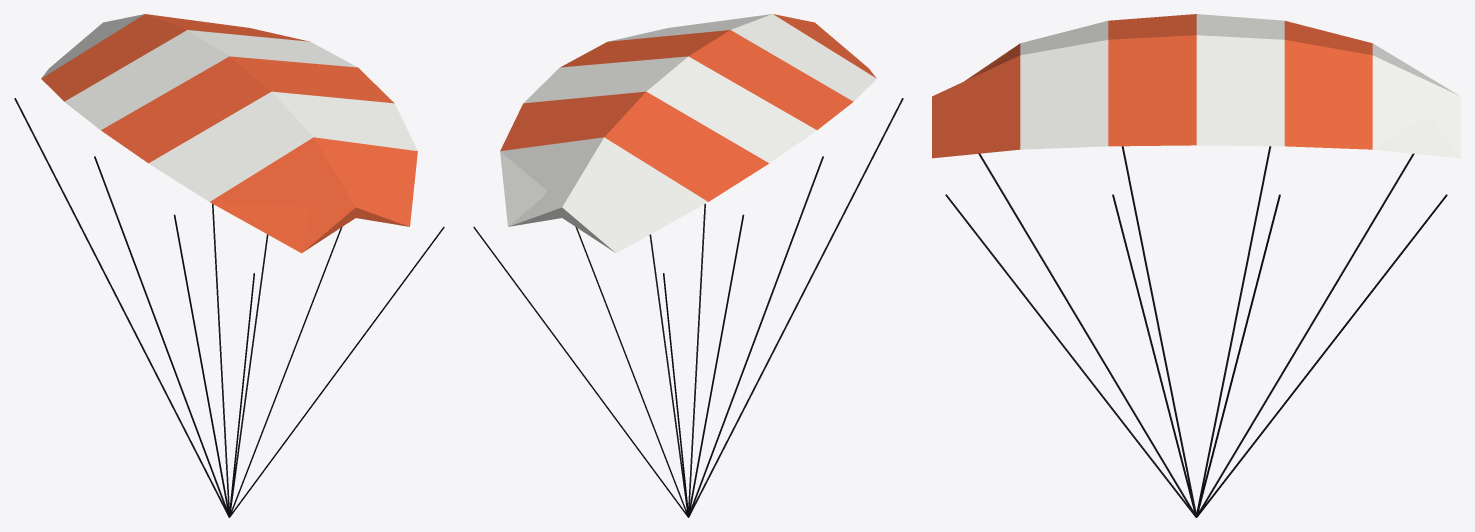
Rendered from prop_parachute.glb.
3 renders of one model, left to right at view 1: azimuth 30°, elevation 25°; view 2: azimuth 150°, elevation 25°; view 3: azimuth 270°, elevation 25°, orthographic. The views are drawn at different scales.
Parts seen in each view (by area): view 1: prop_parachute__mesh; view 2: prop_parachute__mesh; view 3: prop_parachute__mesh.
Part boxes in pixels (x1,y1,x2,y2): prop_parachute__mesh: (14,14,444,517); prop_parachute__mesh: (473,14,903,517); prop_parachute__mesh: (932,14,1460,517).
Size of the model in its own units: 3.8 by 6.51 by 6.46.
